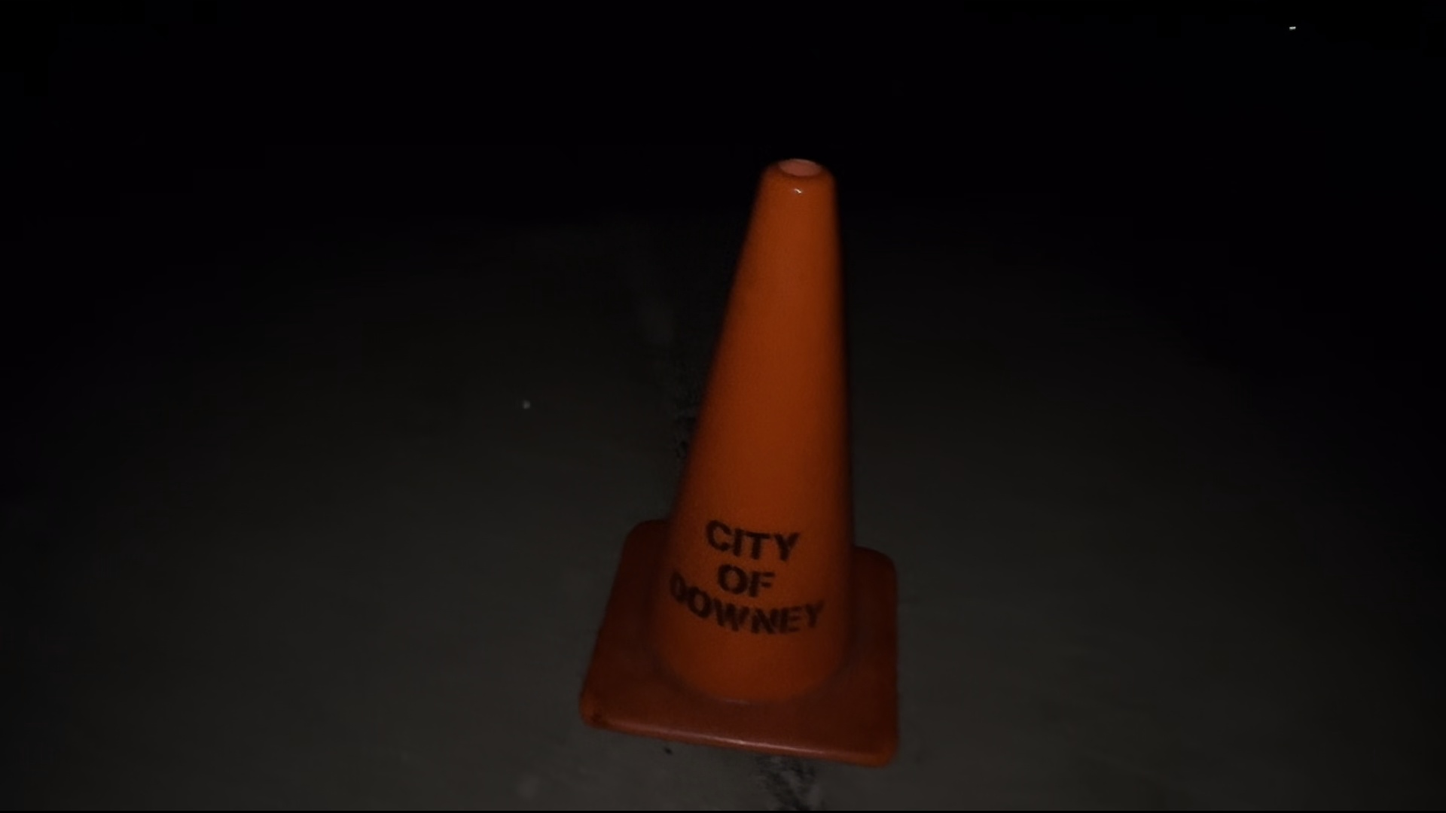traffic_cone: (578, 155, 901, 767)
